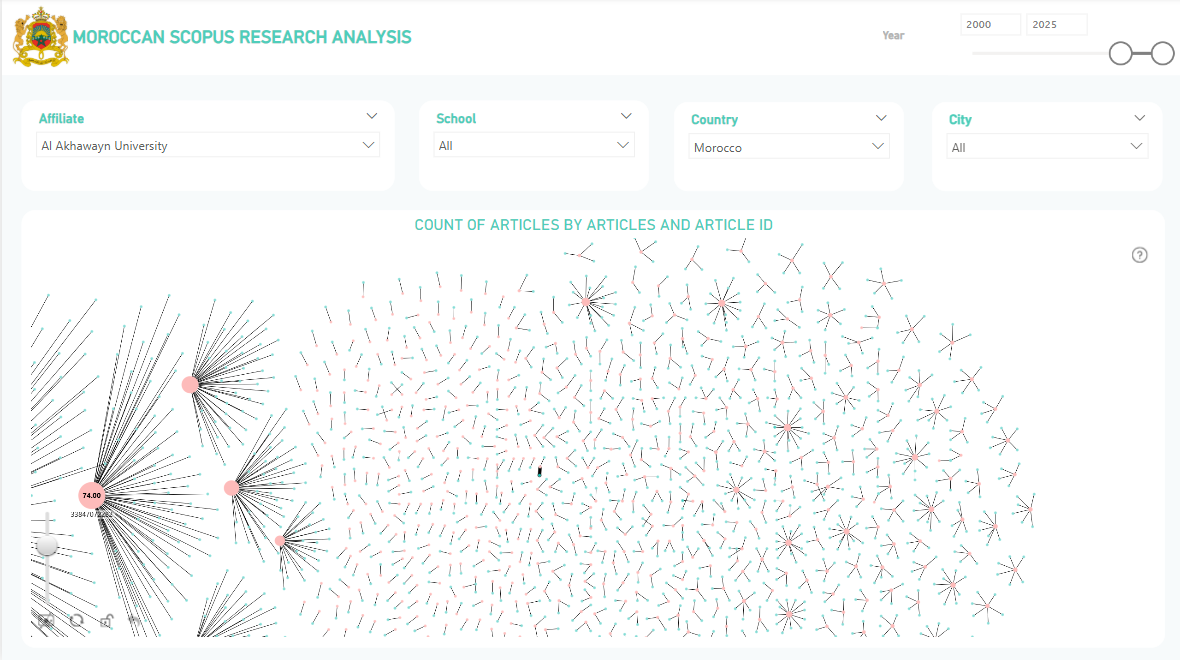

The dashboard page shown, as its layout file describes it:
{"tool":"powerbi","page":{"name":"Network","canvas":[1280,720],"ordinal":7},"visuals":[{"type":"textbox","box":[0,0,1280.5,84.5],"z":0},{"type":"image","box":[0,0,84.5,84.5],"z":1000},{"type":"textbox","box":[71.8,26.5,393.1,41.6],"z":2000},{"type":"textbox","box":[949.9,26,58.6,34.2],"z":3000},{"type":"slicer","fields":{"Values":["Metadata.year"]},"box":[1026.3,8.1,253.7,76.4],"z":4000},{"type":"slicer","fields":{"Values":["Affiliation.city"]},"box":[1009.1,113.4,250,96.4],"z":5000},{"type":"slicer","fields":{"Values":["Affiliation.country"]},"box":[729.5,113.4,249.5,96.4],"z":6000},{"type":"slicer","fields":{"Values":["Affiliation.university"]},"box":[20.8,111.5,404.4,98.3],"z":7000},{"type":"ZoomChartsDrillDownNetworkProA1D59E3B59078E6D50A4CB1C3D4E212","title":"COUNT OF ARTICLES BY ARTICLES AND ARTICLE ID","fields":{"Nodes":["Author.author_name","Metadata.doc_id"],"Size":["CountNonNull(Metadata.doc_id)"]},"box":[20.8,230.6,1239.7,474.3],"z":8000},{"type":"slicer","fields":{"Values":["Affiliation.school"]},"box":[451.7,111.5,249.5,98.3],"z":9000}]}

Visuals, with their boxes in screenshot pixels (x1, y1, x2, y2), scaled from the page's 1280x720 canvas onto the 1180x660 screenshot:
textbox: x1=0 y1=0 x2=1179 y2=77
image: x1=0 y1=0 x2=78 y2=77
textbox: x1=66 y1=24 x2=429 y2=62
textbox: x1=876 y1=24 x2=930 y2=55
slicer - Metadata.year: x1=946 y1=7 x2=1179 y2=77
slicer - Affiliation.city: x1=930 y1=104 x2=1161 y2=192
slicer - Affiliation.country: x1=673 y1=104 x2=903 y2=192
slicer - Affiliation.university: x1=19 y1=102 x2=392 y2=192
"COUNT OF ARTICLES BY ARTICLES AND ARTICLE ID" ZoomChartsDrillDownNetworkProA1D59E3B59078E6D50A4CB1C3D4E212: x1=19 y1=211 x2=1162 y2=646
slicer - Affiliation.school: x1=416 y1=102 x2=646 y2=192
